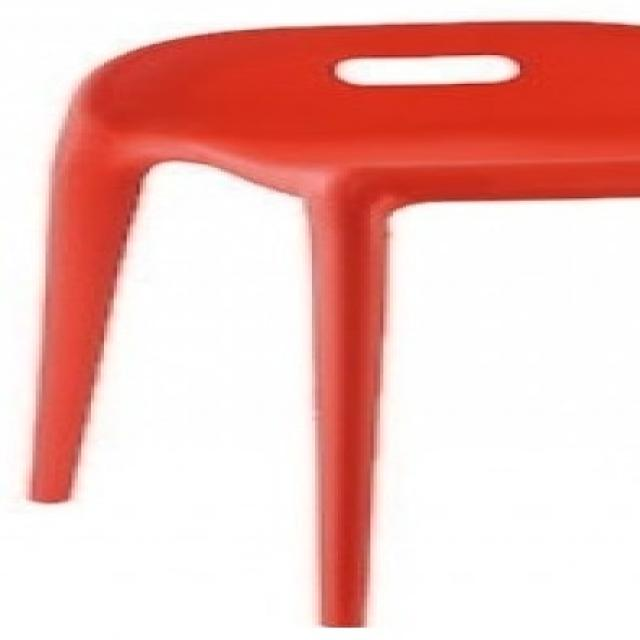Chair: (19, 14, 640, 630)
